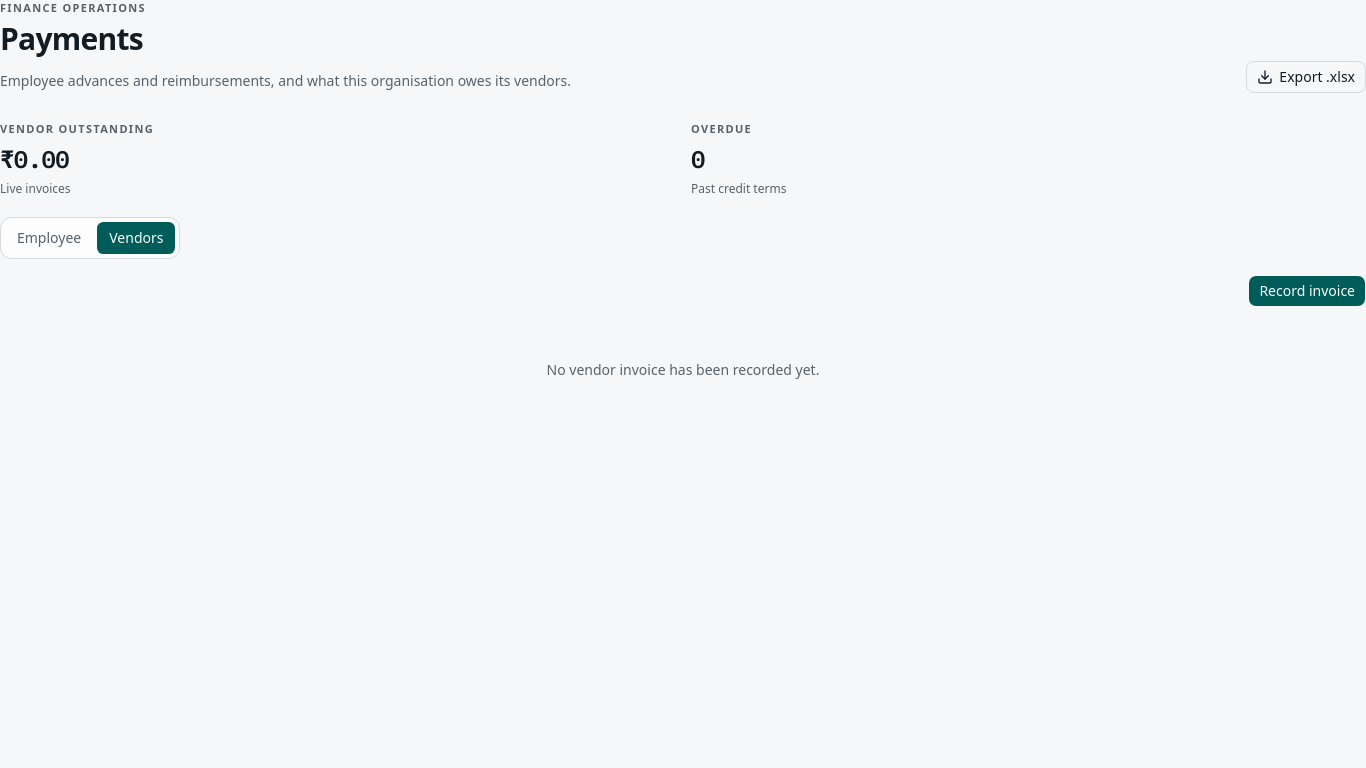
the vendor-invoice purchase-order picker › waits for a vendor, then says when none of the RECENT orders is theirs
This screenshot has width=1366, height=768.
Step 1. Click the button "Record invoice" → (1307, 291), box [1248,275,1365,307]
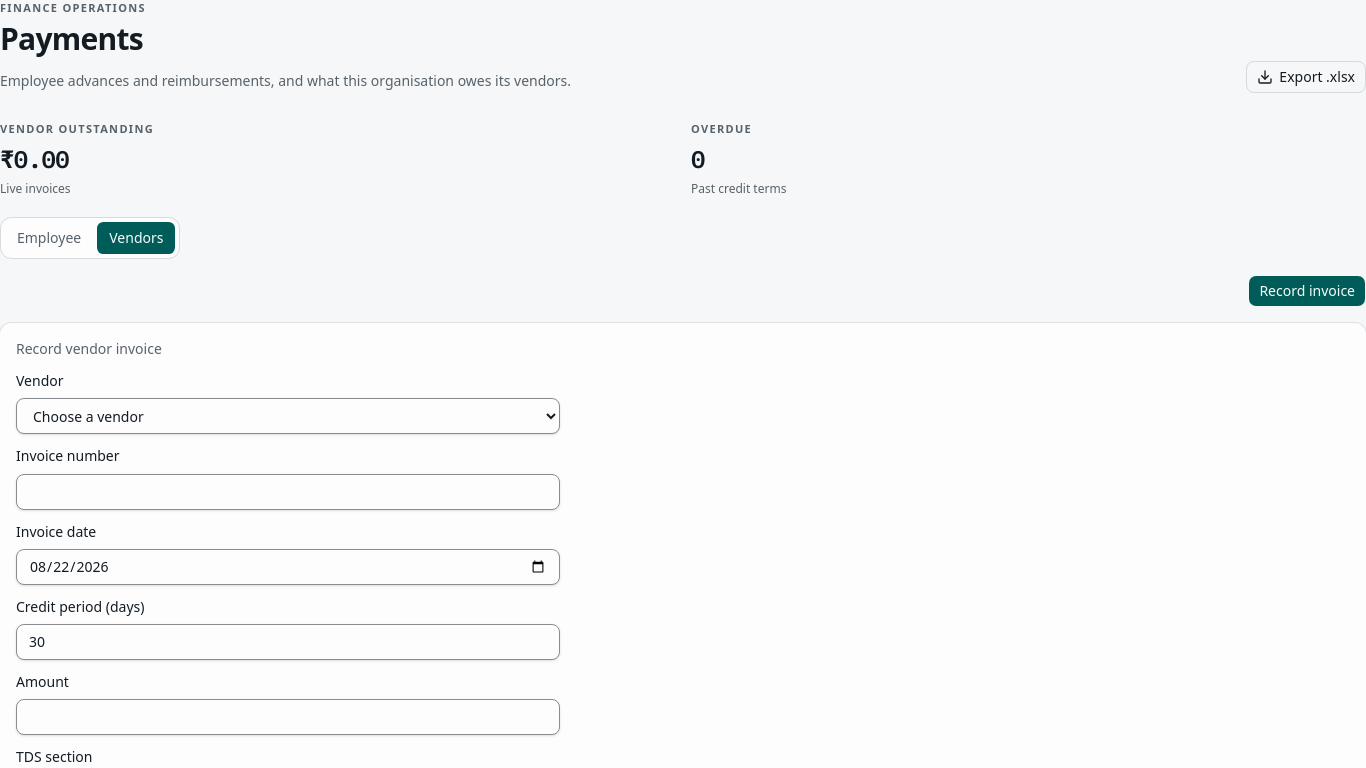
Step 2. Select "Bright LED Components (no PAN — 206AA applies)" in the dropdown labelled "Vendor" → (288, 416), box [16,398,560,434]
(page scrolled)
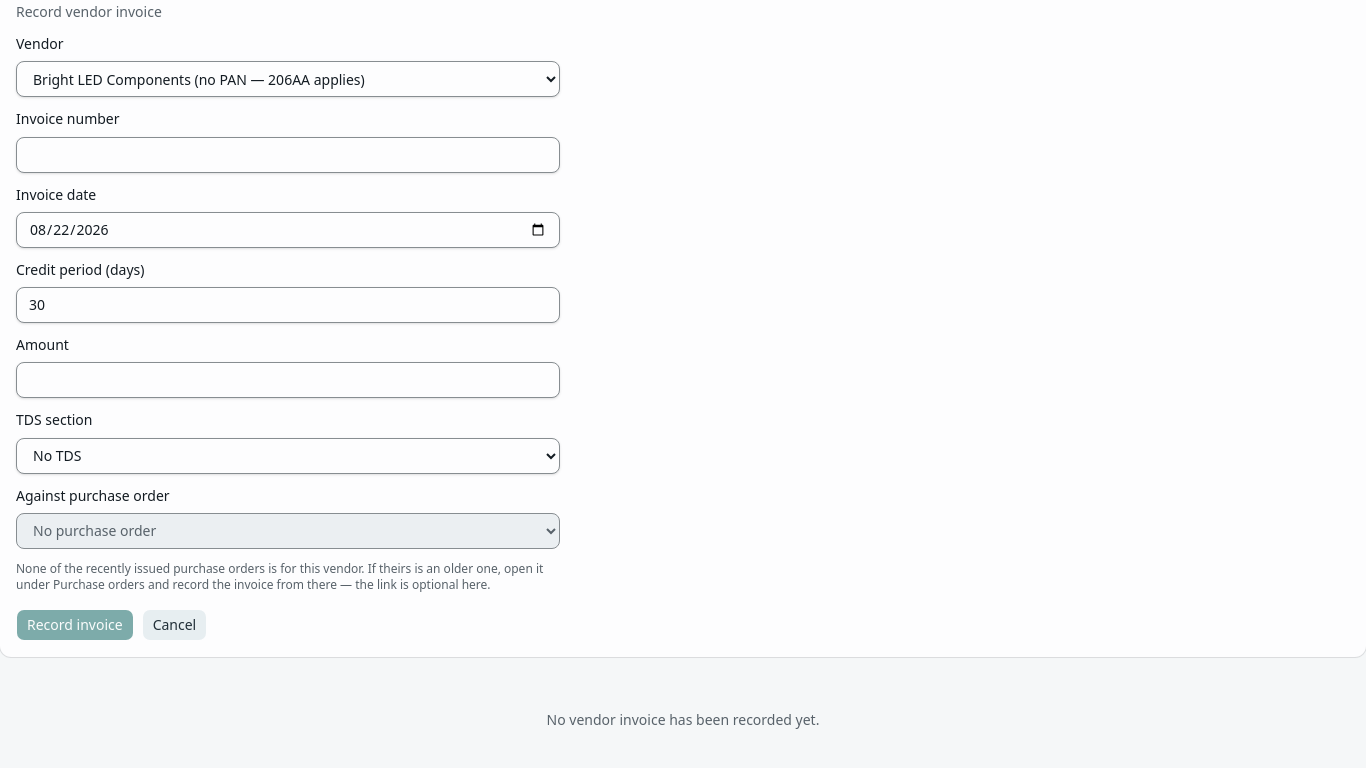
Check: the dropdown labelled "Against purchase order" is disabled, box [16,513,560,549]
Check: the text "None of the recently issued purchase orders" is shown, box [16,560,543,593]
